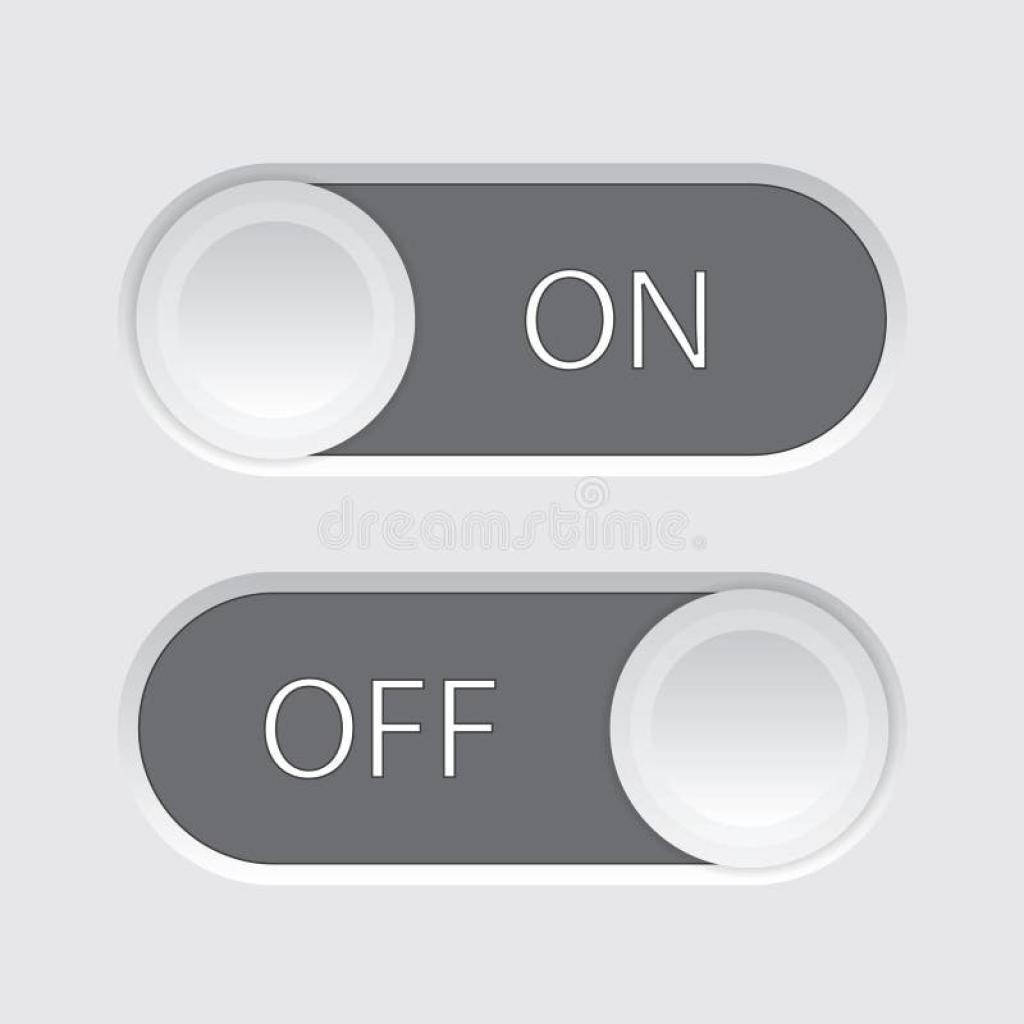switch: (130, 565, 921, 885), (121, 166, 903, 472)
